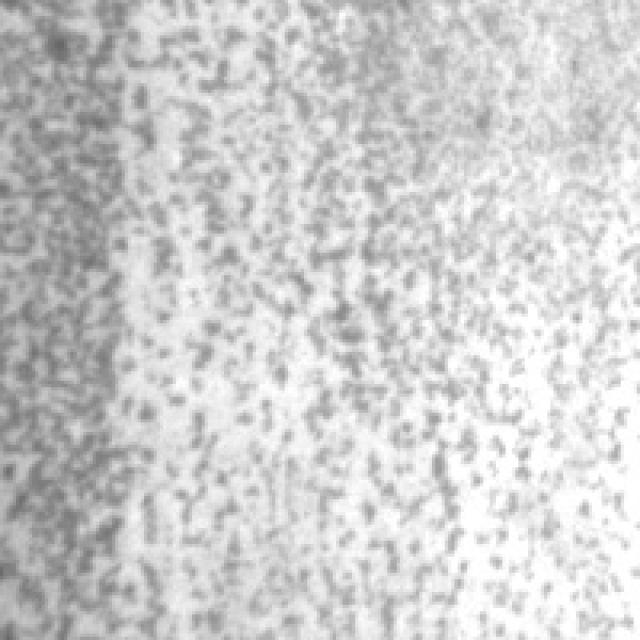pitted_surface: (3, 0, 640, 630)
